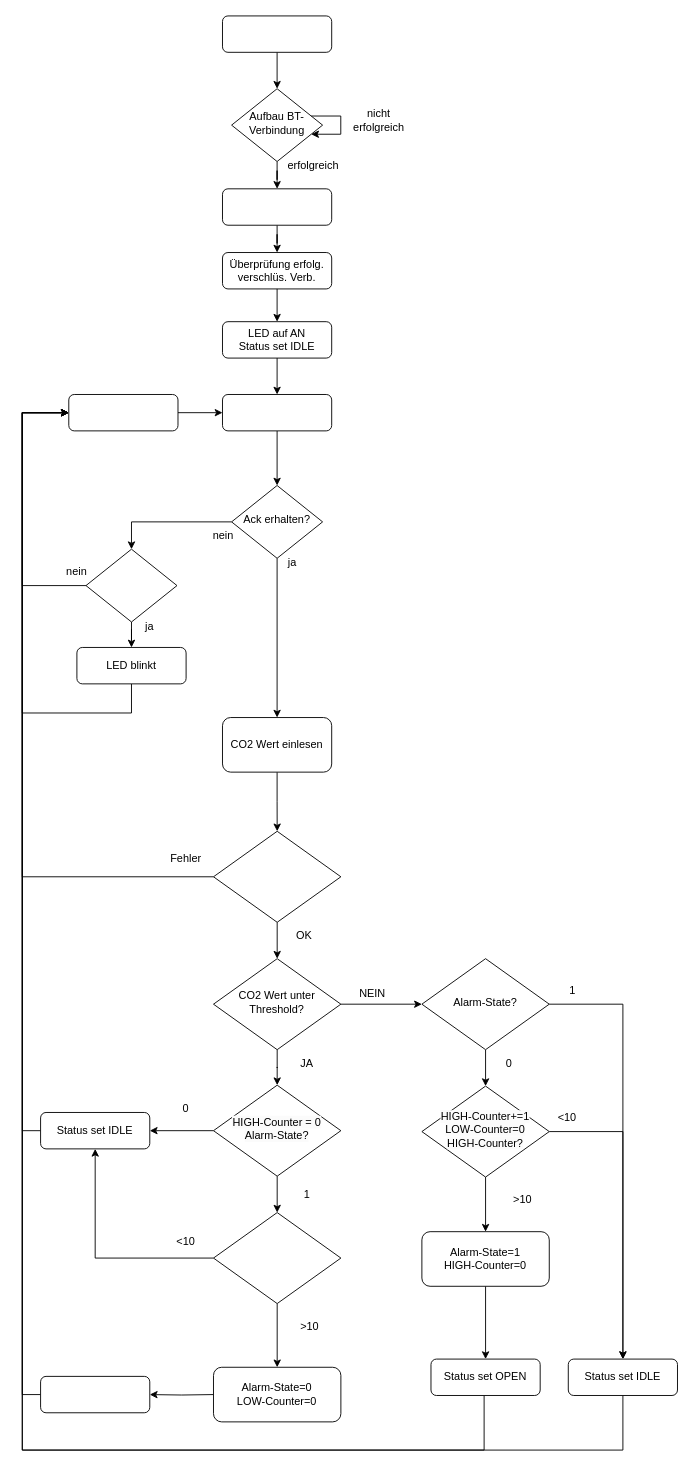
This 693x1473 diagram has some shape labels left out. The shapes that lost their labels are listed below. From the top down, each one's centre as x and y in pixels, then its label:
At (277,33): "Check int. Systeme".
At (277,206): "Schlüsselaustausch (DH)".
At (123,412): "10 Sek Wait".
At (277,412): "Status Übermittlung".
At (131,585): "Retry Count > 2".
At (277,876): "Überprüfen + Werte Validierung Hazard 2".
At (277,1258): "LOW-Counter+=1 LOW-Counter?".
At (95,1394): "Status set CLOSE".
